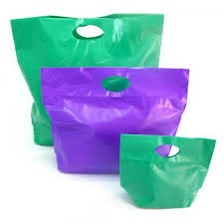plastic_bag: (5, 4, 177, 153), (33, 59, 197, 179), (112, 127, 214, 216)
